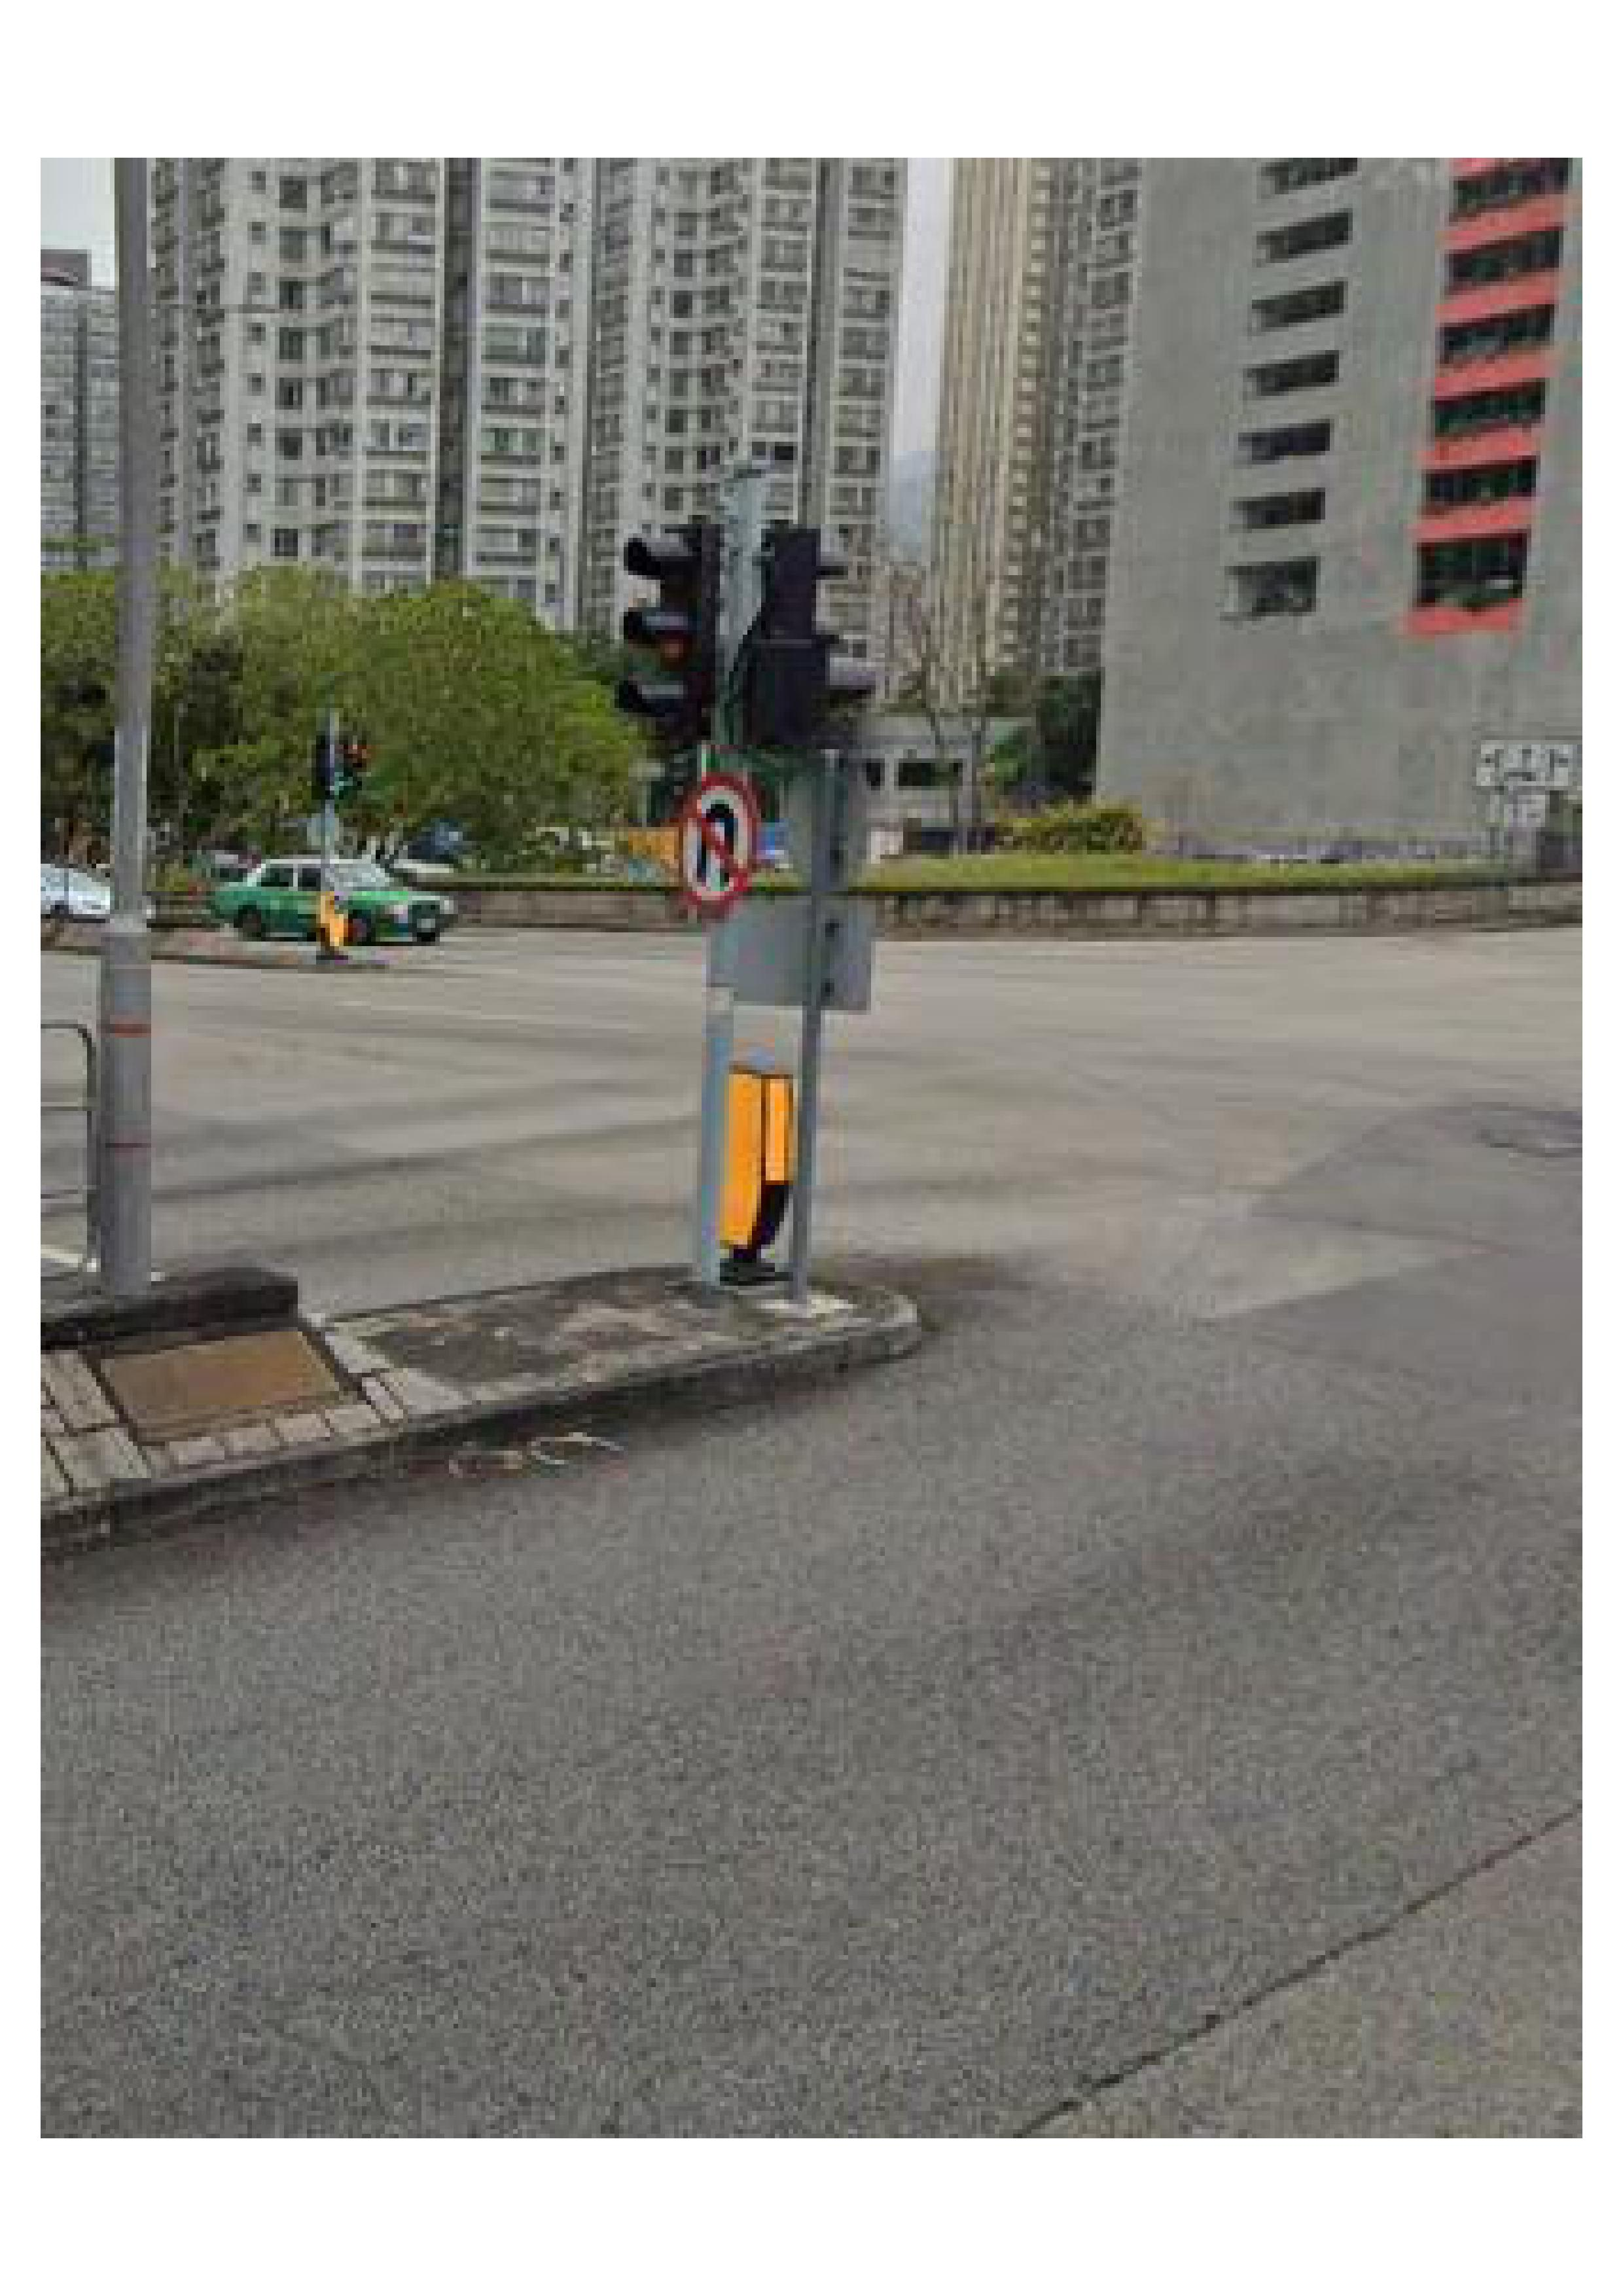No Uturn: (669, 781, 771, 915)
